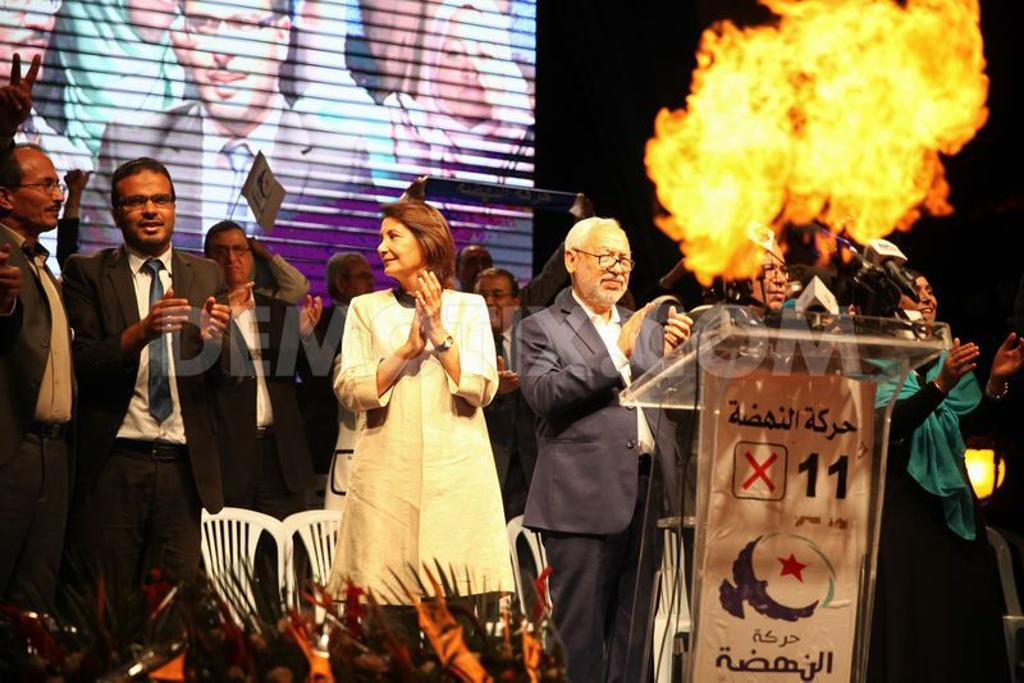face: (185, 1, 276, 117), (435, 25, 505, 117), (1, 1, 62, 78), (577, 237, 631, 301), (736, 249, 788, 313), (13, 163, 65, 227), (121, 186, 174, 241), (377, 222, 425, 273), (208, 239, 252, 281), (474, 285, 515, 327), (904, 279, 937, 324), (460, 252, 493, 287), (346, 265, 375, 302)
